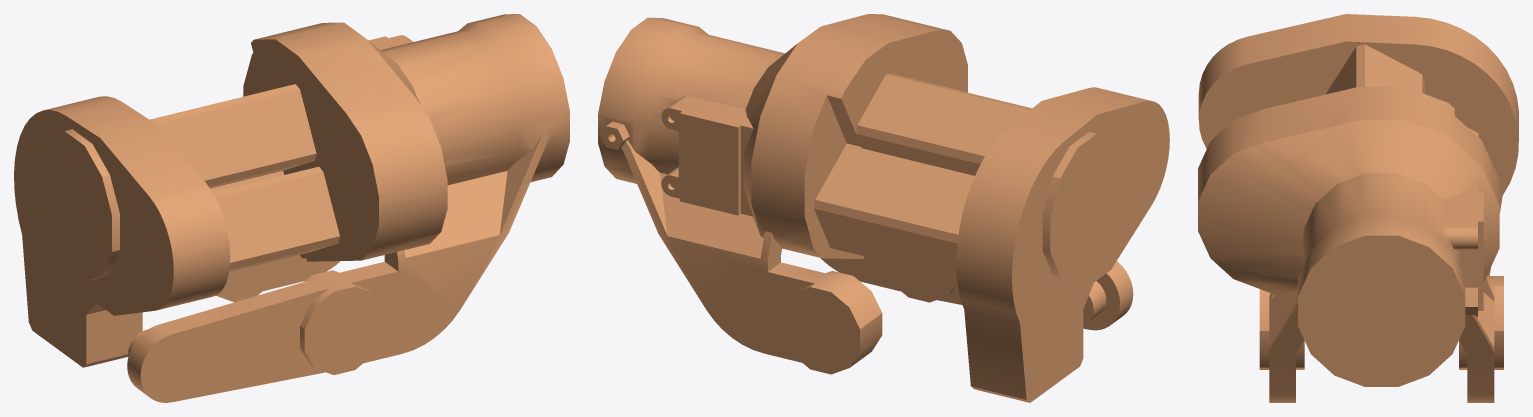
The picture shows the model from 3 angles, left to right: view 1: azimuth 30°, elevation 25°; view 2: azimuth 150°, elevation 25°; view 3: azimuth 270°, elevation 25°; orthographic projection.
Parts seen in each view (by area): view 1: Link_3; view 2: Link_3; view 3: Link_3.
Boxes of the visible parts, x1,y1,x2,y2 form: Link_3: [14, 14, 569, 402]; Link_3: [598, 14, 1169, 402]; Link_3: [1198, 14, 1518, 402].
Size of the model in its own units: 0.4895 by 0.2994 by 0.288.
